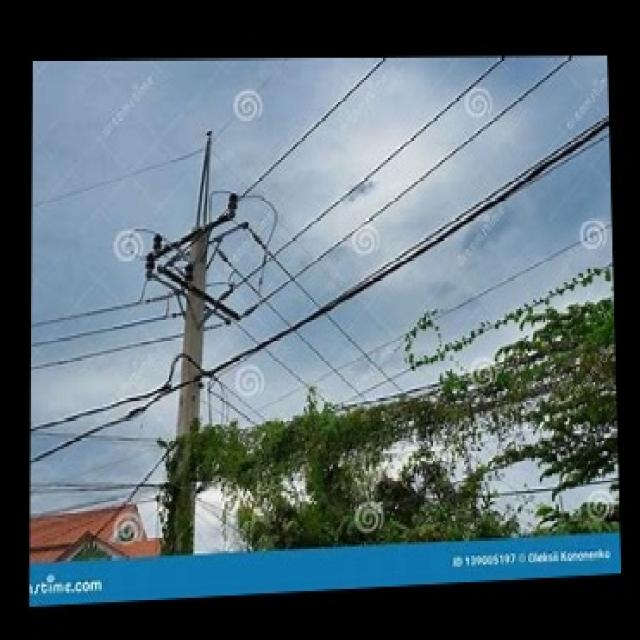critical vegetation: (188, 353, 618, 504)
